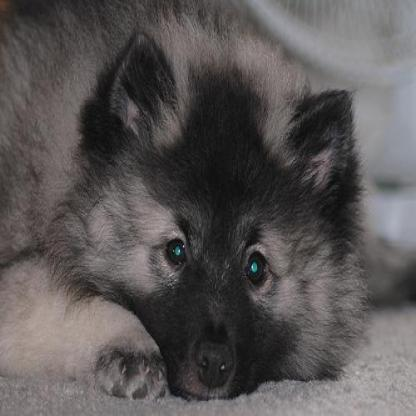keeshond: (0, 0, 369, 400)
